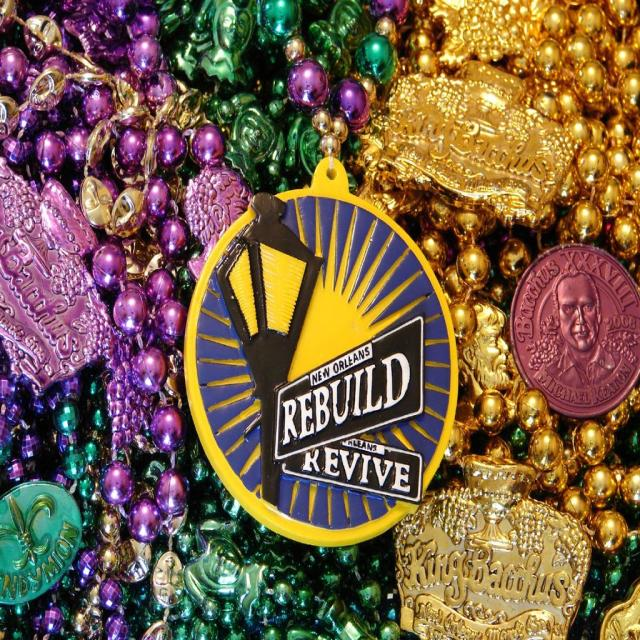Coin: (508, 237, 640, 421)
